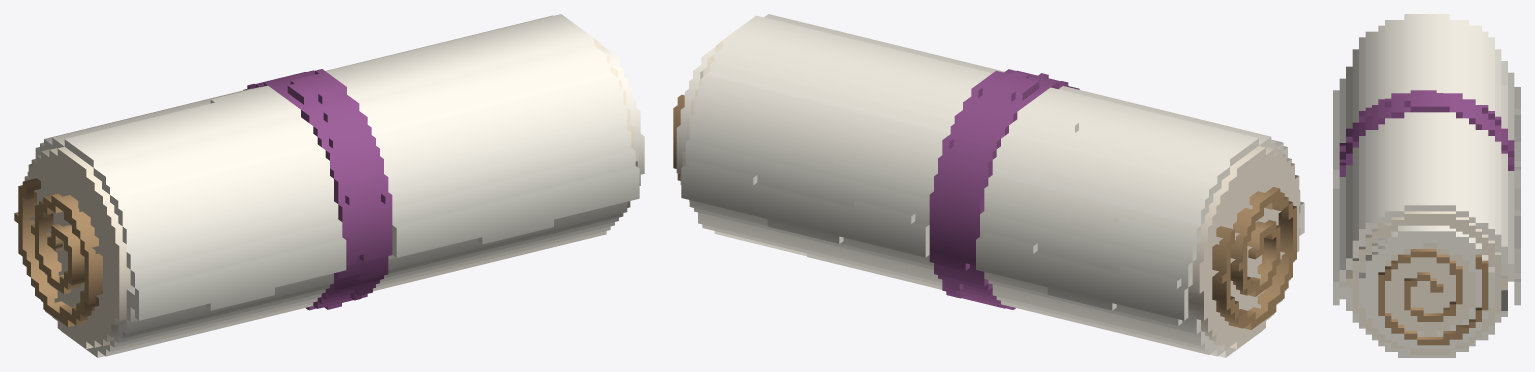
The model's file is ExperienceScrollVoxel.fbx.
3 views of the same model, side by side, from view 1: azimuth 30°, elevation 25°; view 2: azimuth 150°, elevation 25°; view 3: azimuth 270°, elevation 25° (orthographic). The views are drawn at different scales.
Visible parts, largest first — view 1: Scroll block surface; view 2: Scroll block surface; view 3: Scroll block surface.
Part boxes in pixels (x1,y1,x2,y2): Scroll block surface: [14, 14, 644, 357]; Scroll block surface: [673, 14, 1304, 357]; Scroll block surface: [1333, 14, 1520, 357].
Size of the model in its own units: 275 by 100 by 104.
